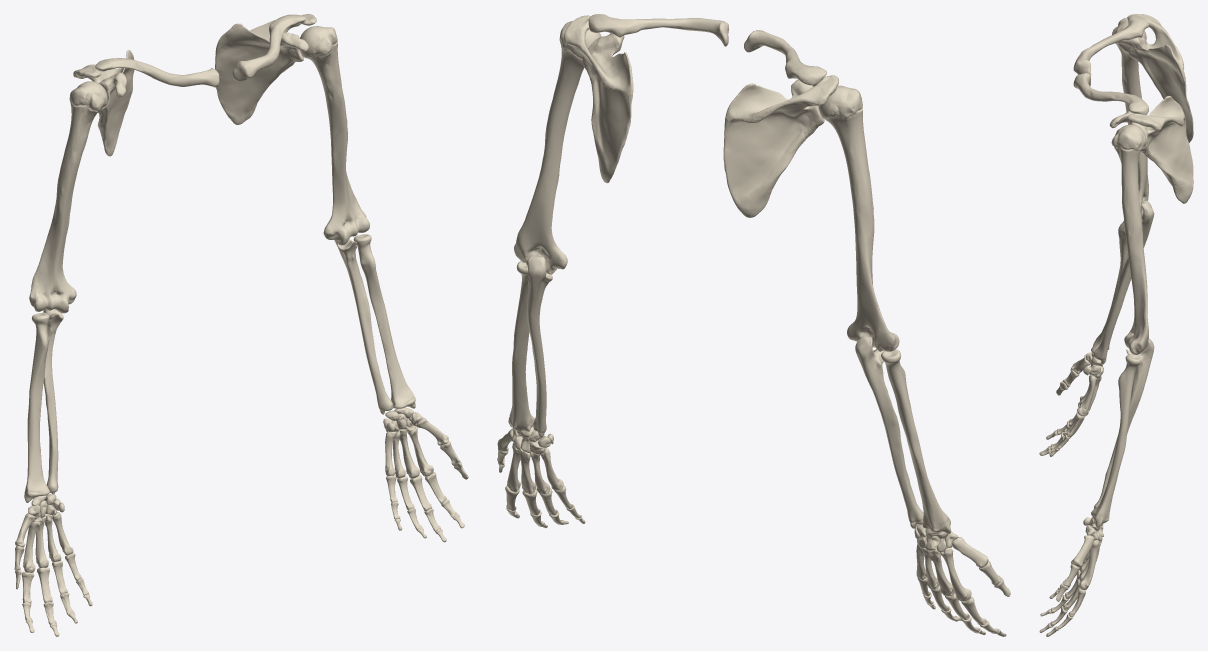
The model's file is region-4.glb.
3 views of the same model, side by side, from view 1: azimuth 30°, elevation 25°; view 2: azimuth 150°, elevation 25°; view 3: azimuth 270°, elevation 25° (orthographic). The views are drawn at different scales.
Parts seen in each view (by area): view 1: bone_humerus_R, bone_humerus_L, bone_scapula_L, bone_radius_R, bone_radius_L, bone_scapula_R, bone_ulna_L, bone_ulna_R, bone_clavicle_R, bone_clavicle_L; view 2: bone_scapula_R, bone_humerus_R, bone_humerus_L, bone_scapula_L, bone_ulna_R, bone_radius_R, bone_ulna_L, bone_radius_L, bone_clavicle_L, bone_clavicle_R; view 3: bone_humerus_L, bone_scapula_L, bone_scapula_R, bone_radius_L, bone_humerus_R, bone_ulna_R, bone_ulna_L, bone_clavicle_R, bone_clavicle_L, bone_radius_R, bone_metacarpal_2_L, bone_metacarpal_1_L (+1 smaller).
Boxes of the visible parts, x1,y1,x2,y2 form: bone_humerus_R: (29,81,107,313); bone_humerus_L: (300,26,369,245); bone_scapula_L: (215,14,316,124); bone_radius_R: (24,312,49,502); bone_radius_L: (353,234,415,408); bone_scapula_R: (73,50,134,156); bone_ulna_L: (334,239,392,414); bone_ulna_R: (43,309,63,494); bone_clavicle_R: (95,58,219,87); bone_clavicle_L: (232,14,305,81); bone_scapula_R: (723,75,838,217); bone_humerus_R: (819,85,899,351); bone_humerus_L: (514,21,601,274); bone_scapula_L: (563,15,633,183); bone_ulna_R: (855,335,923,528); bone_radius_R: (881,349,951,533); bone_ulna_L: (527,255,552,437); bone_radius_L: (508,261,535,431); bone_clavicle_L: (588,14,728,46); bone_clavicle_R: (744,30,826,85); bone_humerus_L: (1111,124,1148,354); bone_scapula_L: (1109,95,1193,203); bone_scapula_R: (1115,14,1193,142); bone_radius_L: (1091,354,1141,527); bone_humerus_R: (1112,18,1148,217); bone_ulna_R: (1094,200,1154,363); bone_ulna_L: (1094,338,1154,508); bone_clavicle_R: (1073,15,1148,75); bone_clavicle_L: (1073,73,1148,114); bone_radius_R: (1091,221,1128,353); bone_metacarpal_2_L: (1079,540,1098,590); bone_metacarpal_1_L: (1071,535,1094,567).
Bounding box in the file's own units: 0.648 × 0.7036 × 0.2032.
